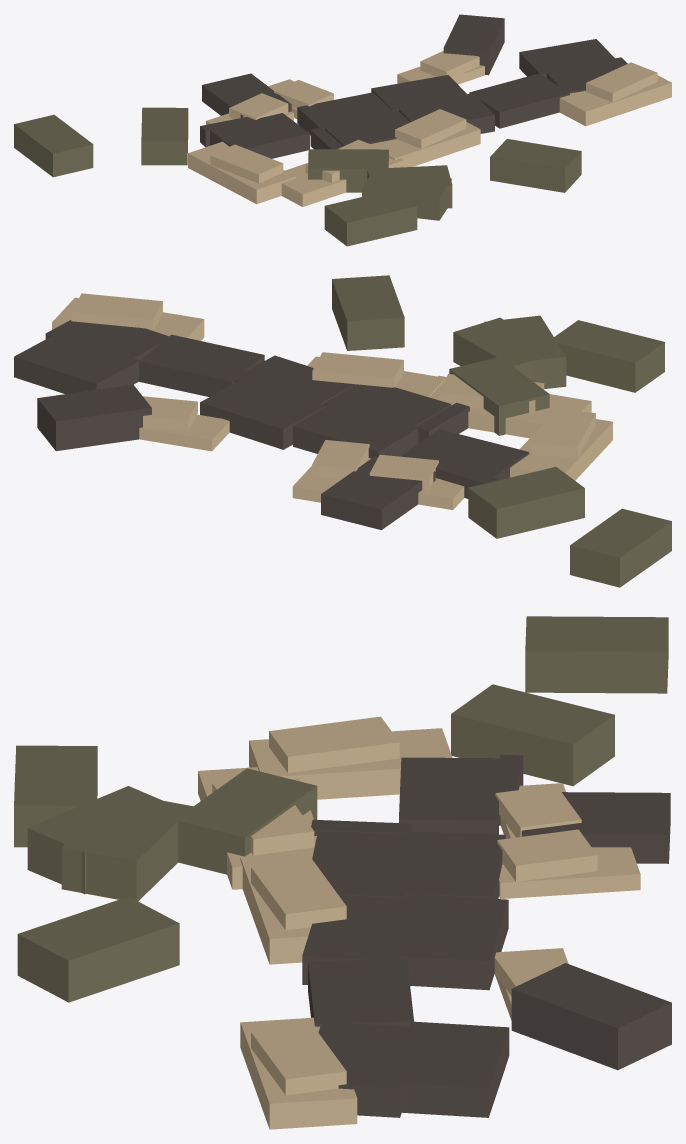
File: SM_SacosRemate_v2_Irregular_e3_Brecha_LOD1.fbx
3 renders of one model, top to bottom at view 1: azimuth 30°, elevation 25°; view 2: azimuth 150°, elevation 25°; view 3: azimuth 270°, elevation 25°, orthographic. The views are drawn at different scales.
Parts seen in each view (by area): view 1: SM_sacos_piezas_v31_LOD1; view 2: SM_sacos_piezas_v31_LOD1; view 3: SM_sacos_piezas_v31_LOD1.
Part boxes in pixels (left/top/right/bottom): SM_sacos_piezas_v31_LOD1: left=14, top=14, right=671, bottom=246; SM_sacos_piezas_v31_LOD1: left=14, top=275, right=671, bottom=587; SM_sacos_piezas_v31_LOD1: left=14, top=616, right=671, bottom=1129.
Bounding box in the file's own units: 6.29 × 0.26 × 3.71.
